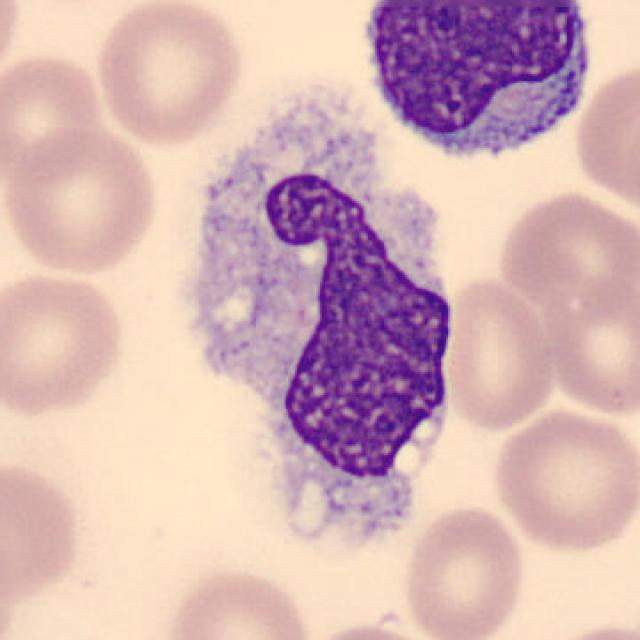Monocyte: (164, 83, 466, 538), (352, 0, 602, 176)
RBC: (2, 122, 164, 278), (91, 0, 249, 148), (487, 404, 638, 555), (0, 266, 130, 423), (439, 273, 560, 434), (492, 189, 636, 321), (398, 500, 529, 640), (535, 258, 638, 422), (0, 47, 108, 186), (0, 453, 87, 610), (156, 562, 318, 640), (571, 58, 638, 214), (297, 619, 448, 640), (0, 2, 25, 90), (535, 619, 638, 640)
